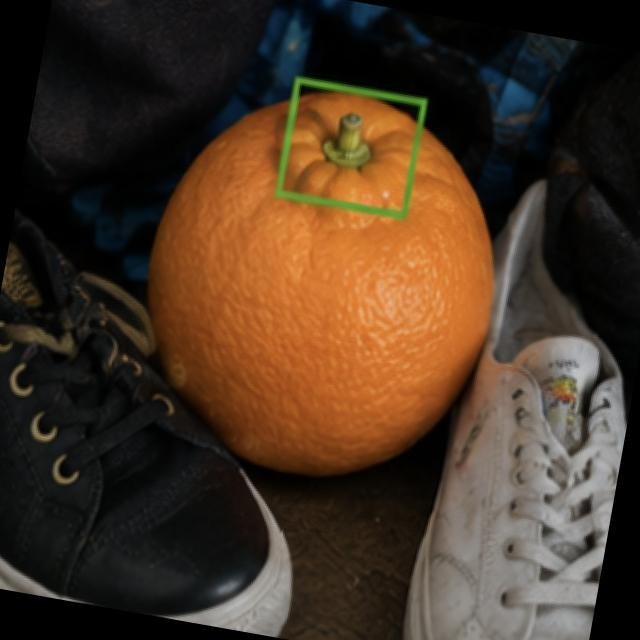Fruit-Stem-Detection: (292, 88, 416, 211)
